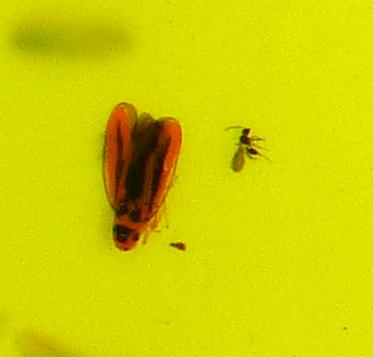Hemiptera: (100, 100, 188, 257)
Hymenoptera: (231, 123, 273, 160)
